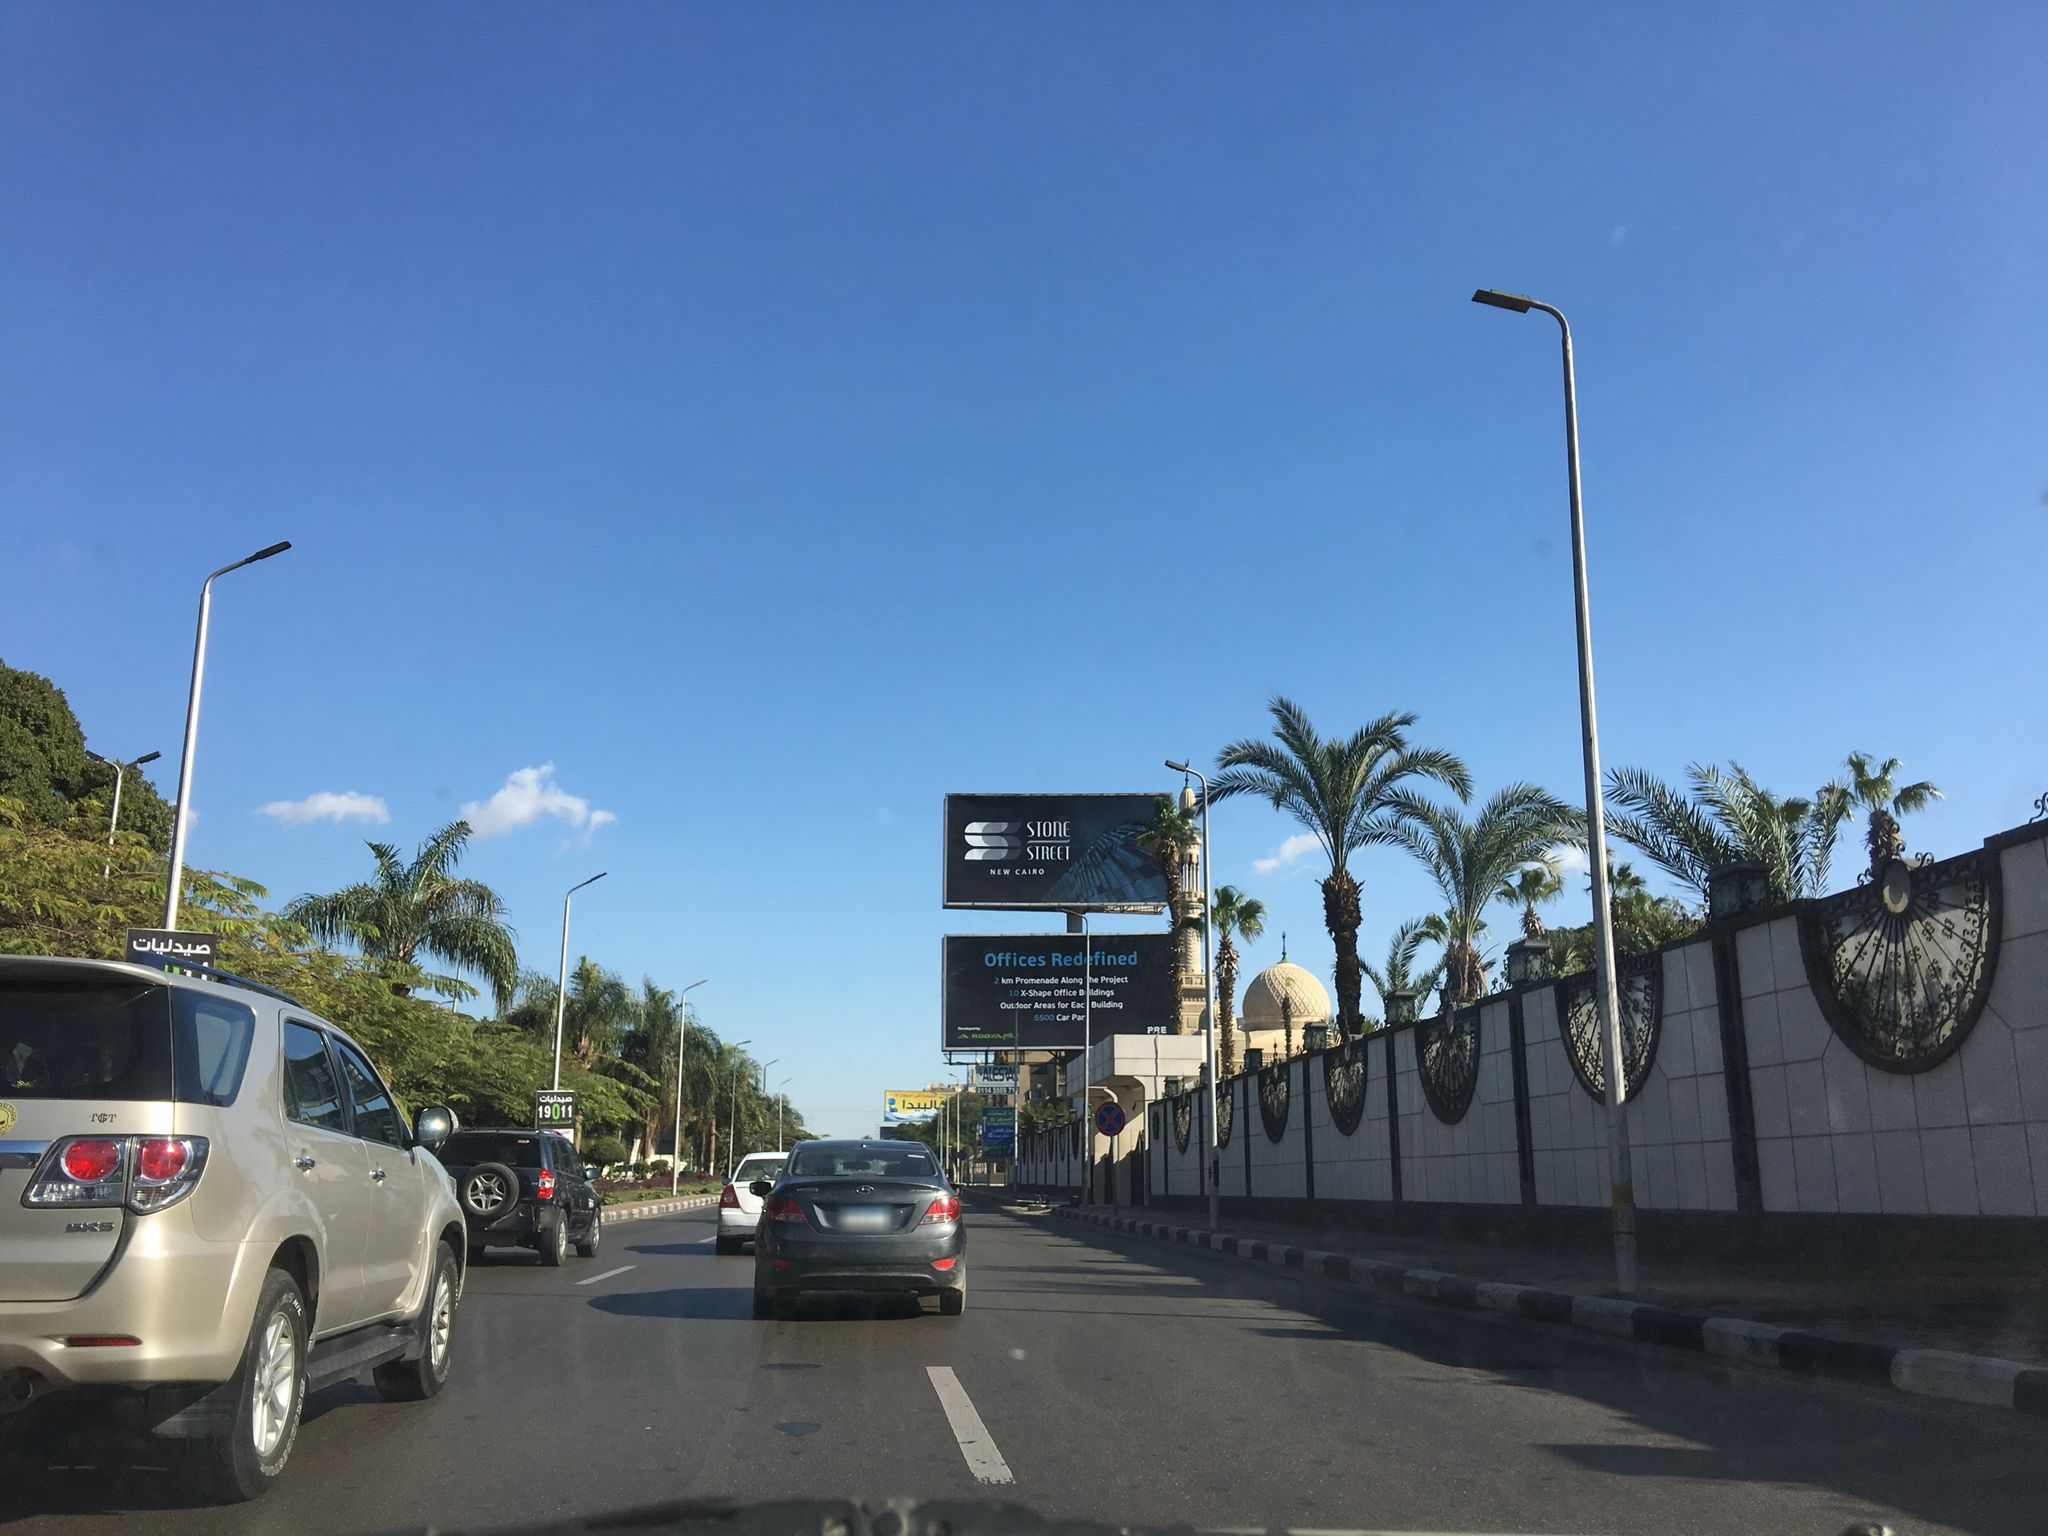car: (0, 944, 472, 1504), (747, 1139, 968, 1315), (439, 1123, 603, 1271), (713, 1150, 793, 1255)
